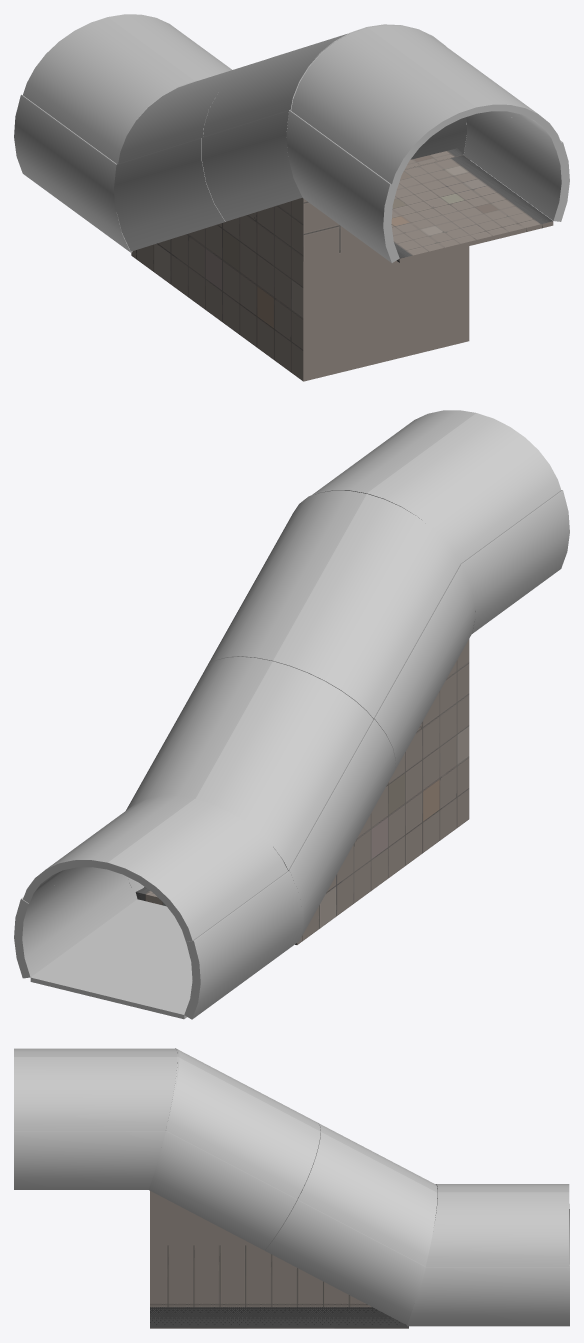
Rendered from road_4.fbx.
3 views of the same model, one above another, from view 1: azimuth 30°, elevation 25°; view 2: azimuth 150°, elevation 25°; view 3: azimuth 270°, elevation 25° (orthographic). The views are drawn at different scales.
Visible parts, largest first — view 1: Grid.106, Cylinder.099, Cylinder.095, Cylinder.098, Grid.136, Cylinder.096, Cylinder.092, Cylinder.094, Cylinder.097, Cylinder.093; view 2: Cylinder.097, Cylinder.093, Cylinder.099, Cylinder.095, Cylinder.094, Grid.106, Grid.137, Cylinder.092, Cylinder.096, Cylinder.098; view 3: Grid.106, Cylinder.099, Cylinder.097, Cylinder.095, Cylinder.093, Cylinder.092, Cylinder.094, Cylinder.096, Cylinder.098.
Part boxes in pixels (x1,y1,x2,y2): Grid.106: (131, 148, 469, 381); Cylinder.099: (291, 24, 562, 188); Cylinder.095: (23, 14, 231, 164); Cylinder.098: (286, 110, 569, 262); Grid.136: (391, 155, 553, 262); Cylinder.096: (202, 110, 466, 221); Cylinder.092: (114, 137, 225, 251); Cylinder.094: (14, 94, 132, 252); Cylinder.097: (203, 24, 445, 136); Cylinder.093: (118, 60, 262, 163); Cylinder.097: (204, 489, 460, 719); Cylinder.093: (126, 656, 373, 870); Cylinder.099: (312, 410, 560, 563); Cylinder.095: (23, 795, 287, 941); Cylinder.094: (14, 867, 303, 1019); Grid.106: (135, 639, 469, 944); Grid.137: (30, 899, 192, 1019); Cylinder.092: (127, 719, 395, 937); Cylinder.096: (373, 563, 475, 770); Cylinder.098: (461, 490, 569, 633); Grid.106: (150, 1191, 408, 1328); Cylinder.099: (14, 1048, 179, 1130); Cylinder.097: (165, 1048, 320, 1198); Cylinder.095: (425, 1184, 569, 1266); Cylinder.093: (297, 1123, 437, 1266); Cylinder.092: (265, 1199, 425, 1324); Cylinder.094: (407, 1203, 569, 1326); Cylinder.096: (148, 1131, 297, 1250); Cylinder.098: (14, 1131, 165, 1189).
Bounding box in the file's own units: 451 × 740 × 1546.
